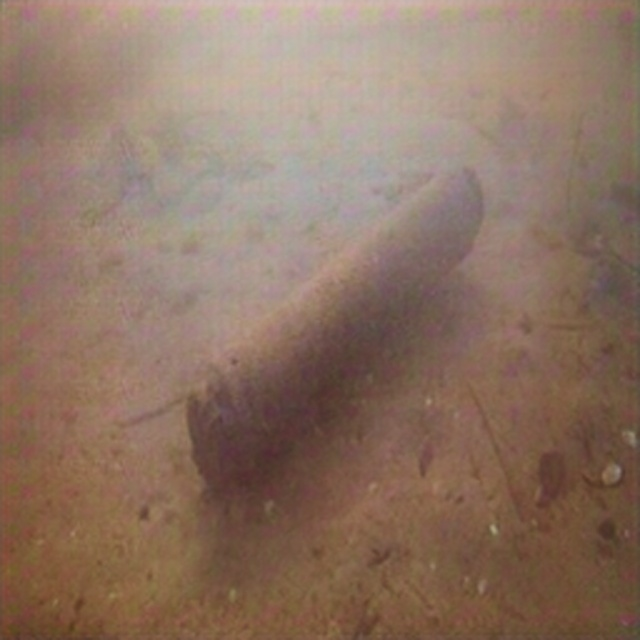mine: (186, 166, 483, 487)
